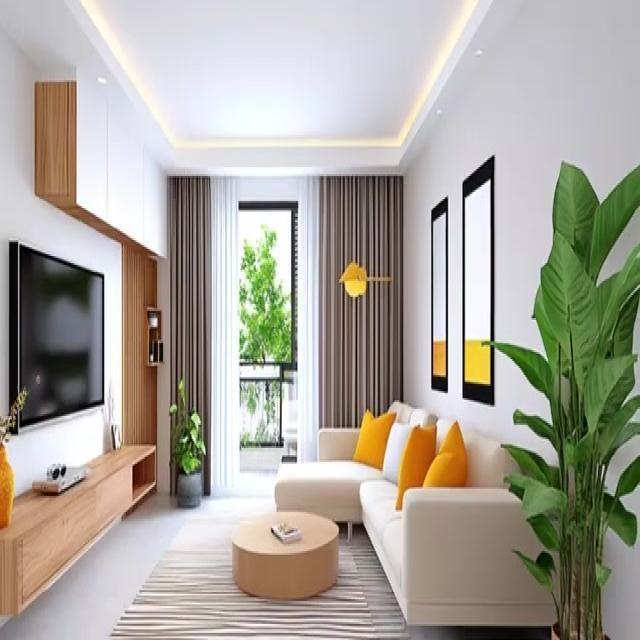obstacle: (274, 398, 562, 628), (0, 441, 157, 617), (230, 508, 339, 600)
